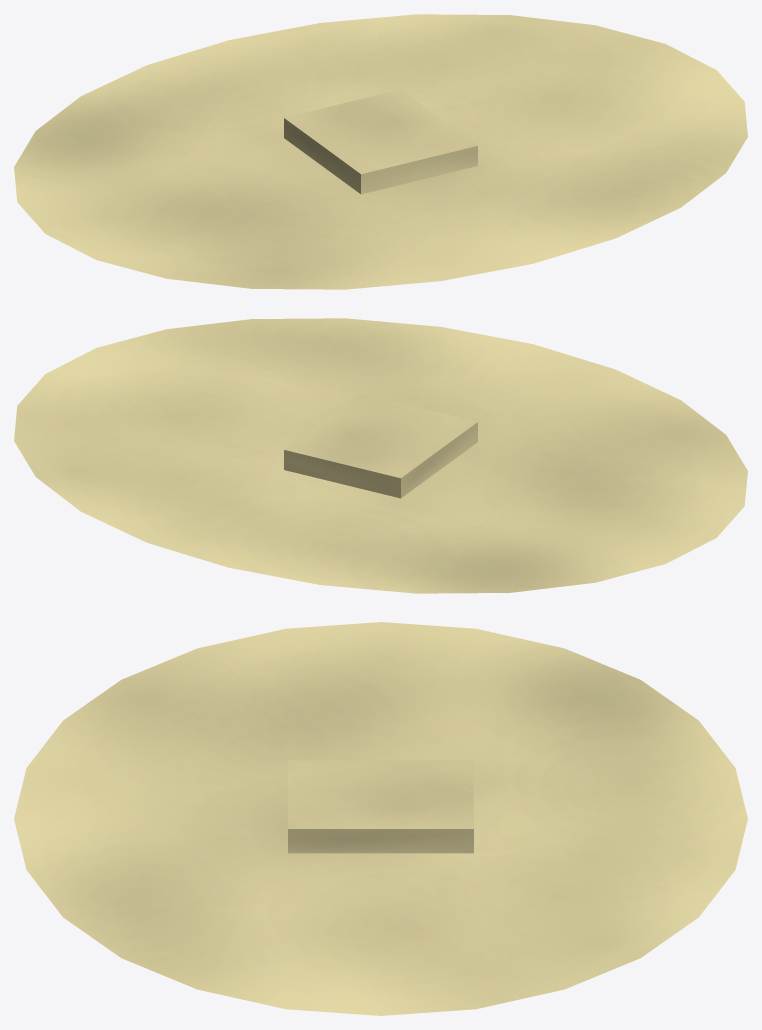
File: TestStage.fbx
3 views of the same model, one above another, from view 1: azimuth 30°, elevation 25°; view 2: azimuth 150°, elevation 25°; view 3: azimuth 270°, elevation 25° (orthographic). The views are drawn at different scales.
Visible parts, largest first — view 1: pDisc2; view 2: pDisc2; view 3: pDisc2.
Part boxes in pixels (left/top/right/bottom): pDisc2: left=14, top=14, right=747, bottom=289; pDisc2: left=14, top=318, right=747, bottom=593; pDisc2: left=14, top=622, right=747, bottom=1015.
Size of the model in its own units: 31.29 by 1 by 24.63.
1 material, 1 textured.
